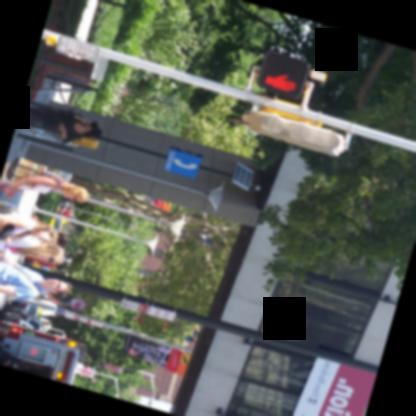handbag: (0, 251, 43, 294), (5, 157, 61, 189), (0, 202, 18, 214)
